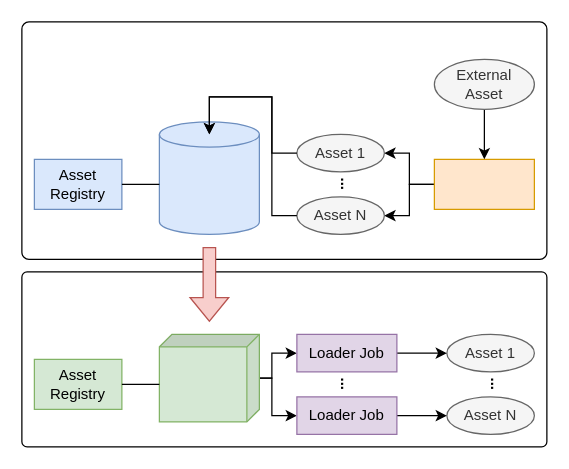
Image size: 569x469. Some labels were removed from this diagram. Each missing label, with the box of its shape:
Asset Pack: (158, 333, 259, 422)
Assets: (158, 121, 259, 234)
Importer: (433, 158, 534, 209)
Исполнение: (21, 271, 547, 447)
Процесс разработки: (21, 21, 547, 259)
